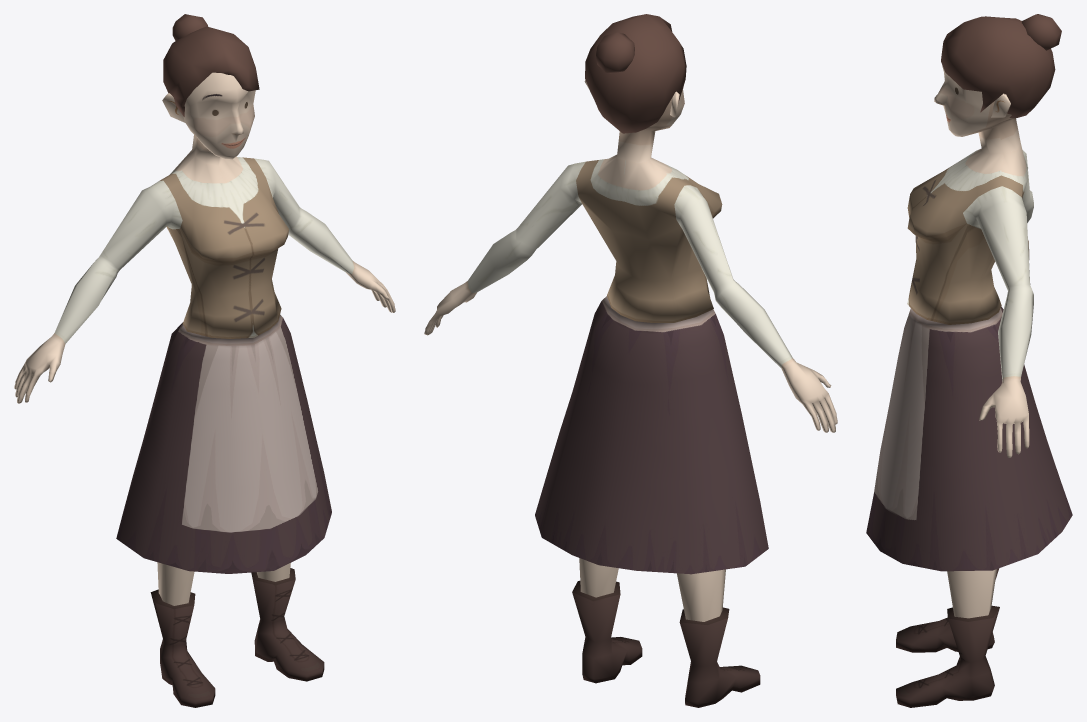
The model's file is woman_commoner.FBX.
3 renders of one model, left to right at view 1: azimuth 30°, elevation 25°; view 2: azimuth 150°, elevation 25°; view 3: azimuth 270°, elevation 25°, orthographic. The views are drawn at different scales.
Parts seen in each view (by area): view 1: woman_commoner_009; view 2: woman_commoner_009; view 3: woman_commoner_009.
Boxes of the visible parts, <box> form: woman_commoner_009: <box>14,14,395,707</box>; woman_commoner_009: <box>424,14,837,707</box>; woman_commoner_009: <box>866,14,1072,707</box>.
Size of the model in its own units: 44.2 by 70.59 by 20.1.
